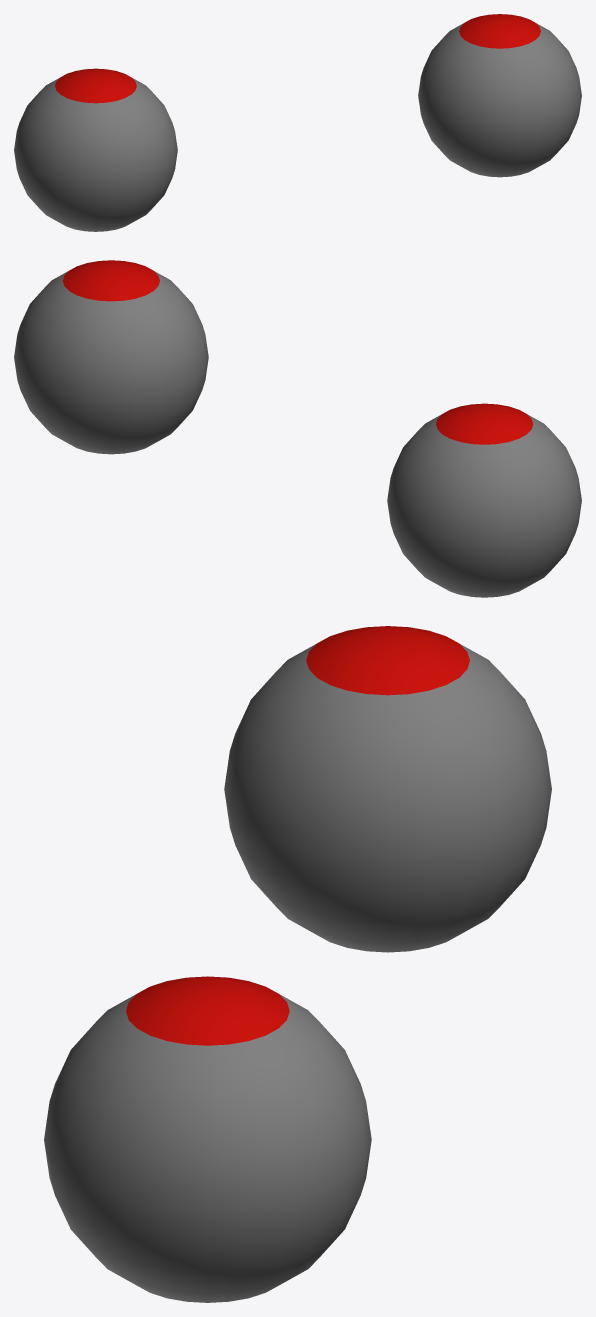
Rendered from Spheres.fbx.
3 views of the same model, one above another, from view 1: azimuth 30°, elevation 25°; view 2: azimuth 150°, elevation 25°; view 3: azimuth 270°, elevation 25° (orthographic). The views are drawn at different scales.
Parts seen in each view (by area): view 1: Sphere (2), Sphere; view 2: Sphere (2), Sphere; view 3: Sphere (2), Sphere.
Part boxes in pixels (box(x1,y1,x2,y2)): Sphere (2): box(418, 14, 581, 177); Sphere: box(14, 68, 177, 231); Sphere (2): box(14, 260, 208, 454); Sphere: box(387, 403, 581, 597); Sphere (2): box(44, 976, 371, 1302); Sphere: box(224, 626, 551, 952).
Size of what is drawn, in the model's own units: 353 by 100 by 155.
